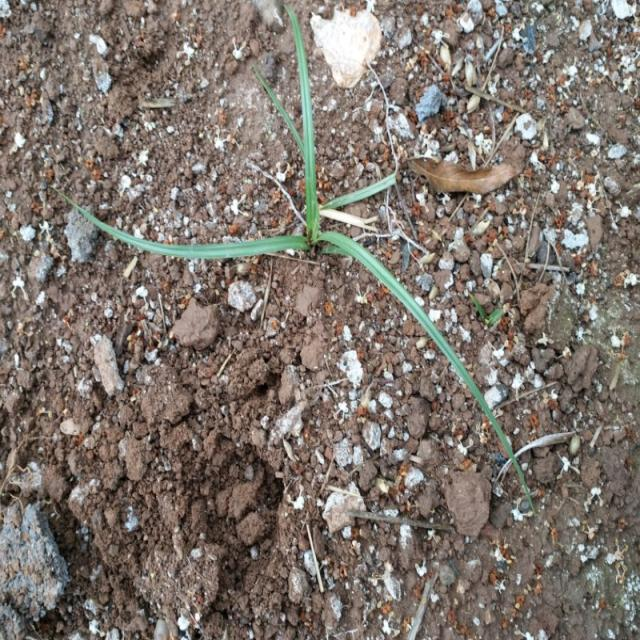sedge: (118, 11, 506, 510)
